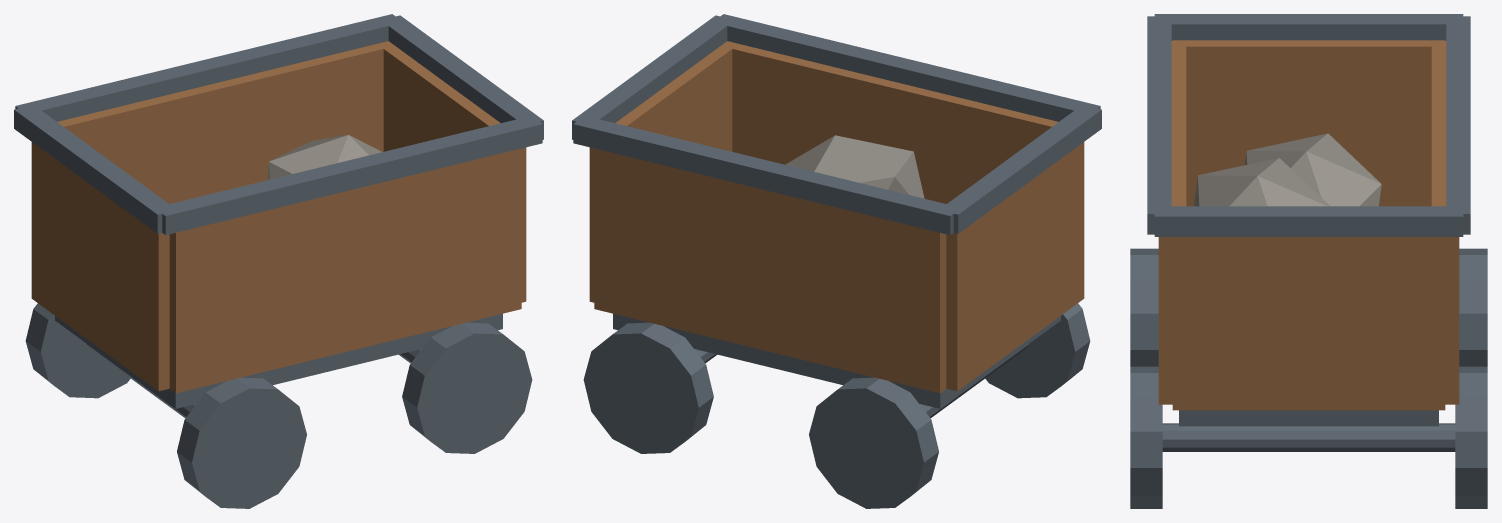
The model's file is 03_MineCart.glb.
The picture shows the model from 3 angles, left to right: view 1: azimuth 30°, elevation 25°; view 2: azimuth 150°, elevation 25°; view 3: azimuth 270°, elevation 25°; orthographic projection. The views are drawn at different scales.
Visible parts, largest first — view 1: Side panels, Side panels.001, End panels, Wheel, Wheel.002, Upper rim, Upper rim.001, End panels.001, End rim, Wheel.001, End rim.001, Cart bottom (+1 smaller); view 2: Side panels.001, Side panels, End panels, Wheel.001, Wheel.003, Upper rim.001, Upper rim, End panels.001, End rim, Wheel, Cart ore.002, End rim.001 (+1 smaller); view 3: End panels.001, End panels, End rim.001, End rim, Axle.001, Cart ore, Side panels, Side panels.001, Upper rim, Upper rim.001, Cart ore.002, Wheel.002 (+4 smaller).
Part boxes in pixels (bbox=[...]): Side panels: bbox=[169, 148, 521, 393]; Side panels.001: bbox=[57, 41, 392, 203]; End panels: bbox=[31, 142, 169, 391]; Wheel: bbox=[177, 377, 306, 508]; Wheel.002: bbox=[402, 322, 532, 453]; Upper rim: bbox=[156, 116, 542, 235]; Upper rim.001: bbox=[15, 14, 402, 121]; End panels.001: bbox=[377, 41, 526, 302]; End rim: bbox=[14, 105, 176, 233]; Wheel.001: bbox=[25, 303, 130, 398]; End rim.001: bbox=[381, 15, 543, 139]; Cart bottom: bbox=[55, 313, 502, 408]; Side panels.001: bbox=[594, 148, 946, 393]; Side panels: bbox=[728, 41, 1058, 203]; End panels: bbox=[946, 142, 1084, 391]; Wheel.001: bbox=[809, 377, 938, 508]; Wheel.003: bbox=[583, 322, 713, 453]; Upper rim.001: bbox=[573, 116, 959, 235]; Upper rim: bbox=[713, 14, 1100, 121]; End panels.001: bbox=[589, 41, 738, 302]; End rim: bbox=[939, 105, 1101, 233]; Wheel: bbox=[985, 303, 1090, 398]; Cart ore.002: bbox=[785, 135, 924, 198]; End rim.001: bbox=[572, 15, 734, 139]; End panels.001: bbox=[1172, 237, 1445, 410]; End panels: bbox=[1172, 40, 1445, 206]; End rim.001: bbox=[1154, 206, 1463, 236]; End rim: bbox=[1154, 14, 1463, 40]; Axle.001: bbox=[1162, 423, 1455, 451]; Cart ore: bbox=[1245, 133, 1381, 206]; Side panels: bbox=[1158, 41, 1186, 404]; Side panels.001: bbox=[1431, 41, 1459, 404]; Upper rim: bbox=[1147, 16, 1171, 234]; Upper rim.001: bbox=[1446, 16, 1470, 234]; Cart ore.002: bbox=[1194, 158, 1329, 206]; Wheel.002: bbox=[1130, 366, 1162, 508].
Bounding box in the file's own units: 1.47 × 1.12 × 1.1.
